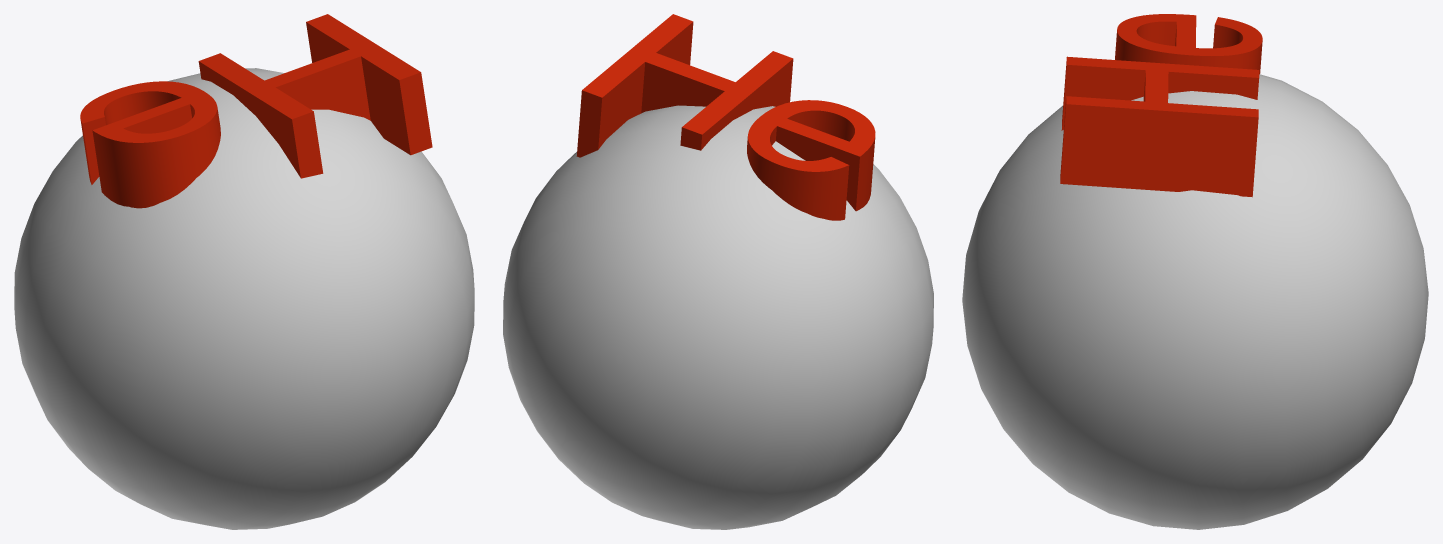
The picture shows the model from 3 angles, left to right: view 1: azimuth 30°, elevation 25°; view 2: azimuth 150°, elevation 25°; view 3: azimuth 270°, elevation 25°; orthographic projection. The views are drawn at different scales.
Parts seen in each view (by area): view 1: He; view 2: He; view 3: He.
Part boxes in pixels (x1,y1,x2,y2): He: (14,14,474,529); He: (503,14,933,529); He: (962,14,1428,529).
Size of the model in its own units: 38.57 by 42.04 by 38.75.
